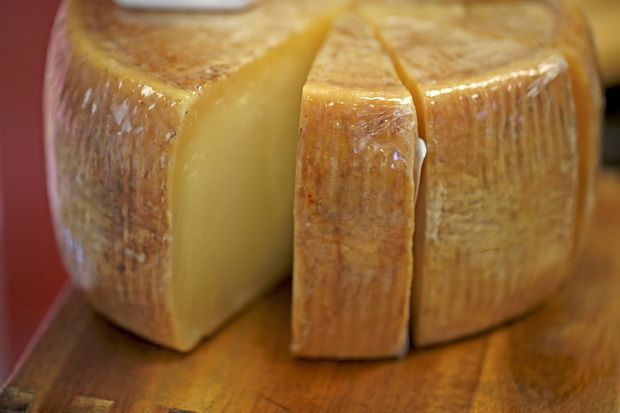cheese: (69, 1, 290, 376), (398, 1, 598, 350), (293, 10, 477, 374)
